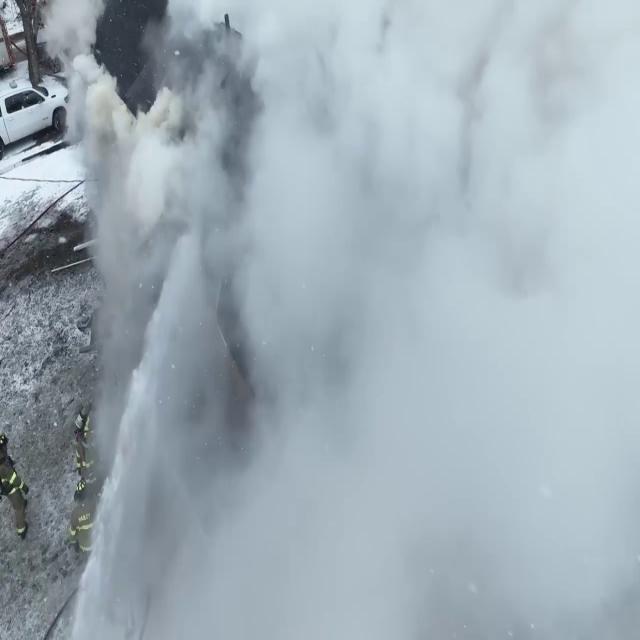Smoke: (36, 0, 638, 640)
